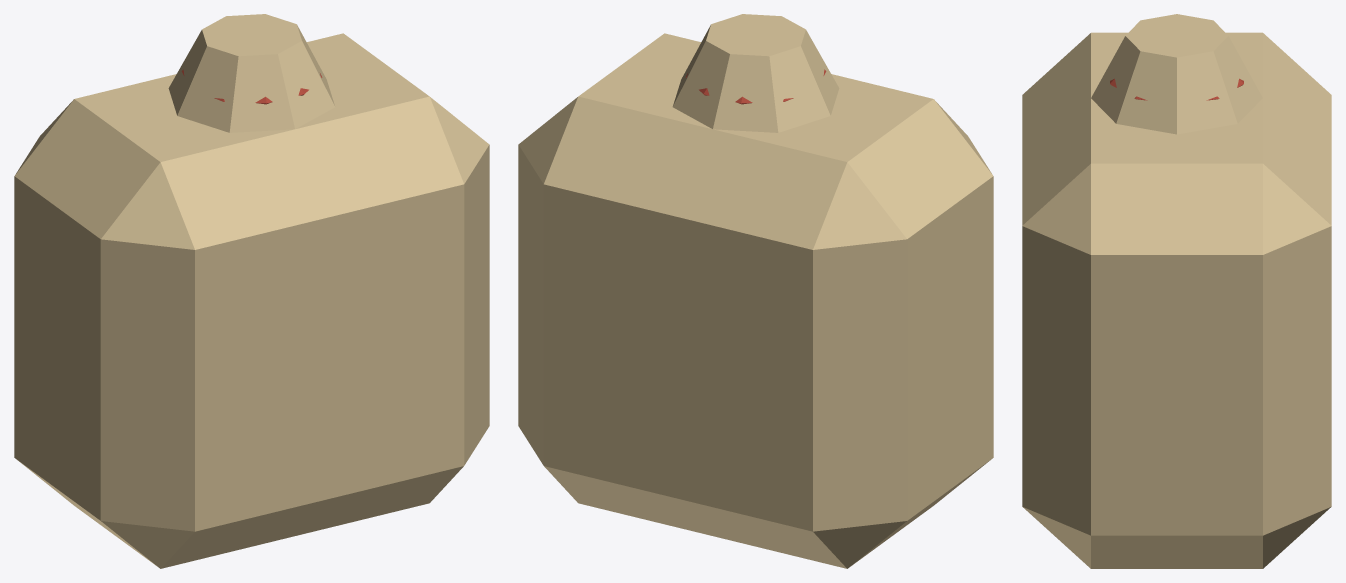
Rendered from grain_sack.fbx.
3 views of the same model, side by side, from view 1: azimuth 30°, elevation 25°; view 2: azimuth 150°, elevation 25°; view 3: azimuth 270°, elevation 25° (orthographic).
Visible parts, largest first — view 1: grain_sack; view 2: grain_sack; view 3: grain_sack.
Part boxes in pixels (left/top/right/bottom): grain_sack: left=14, top=14, right=489, bottom=568; grain_sack: left=518, top=14, right=993, bottom=568; grain_sack: left=1022, top=14, right=1331, bottom=568.
Size of the model in its own units: 0.26 by 0.3 by 0.18.
